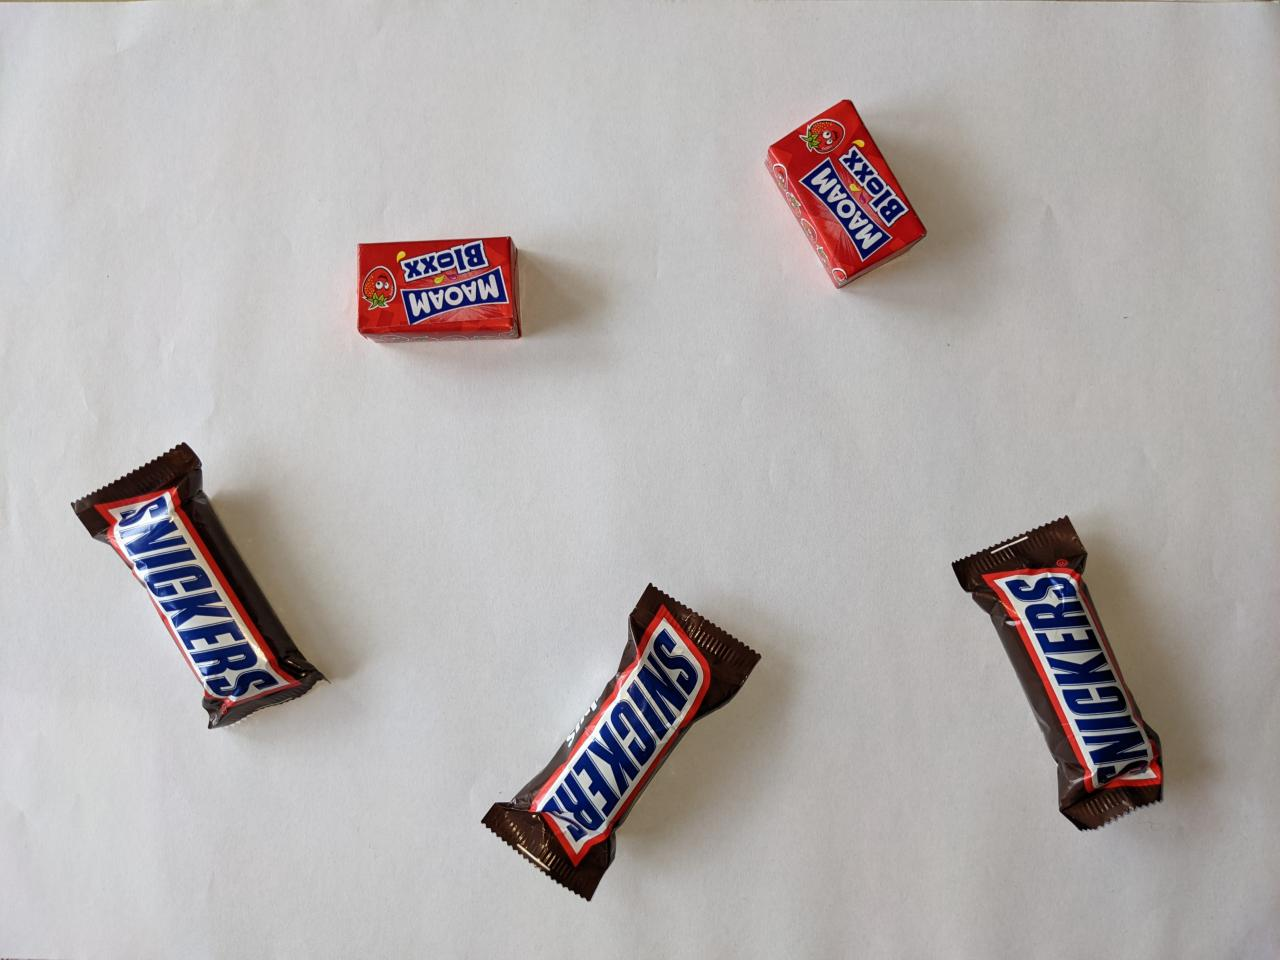MAOAM: (761, 91, 933, 296), (347, 228, 530, 347)
Snickers: (474, 572, 771, 907), (63, 434, 335, 735), (946, 509, 1170, 837)
